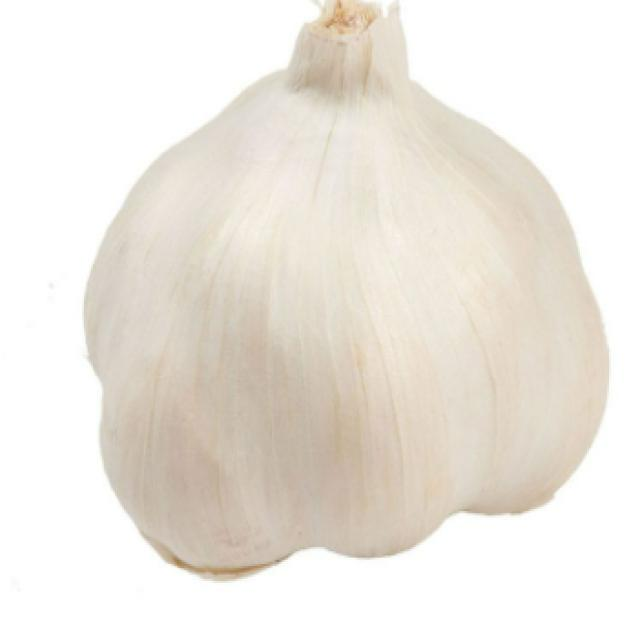garlic: (58, 60, 622, 575)
